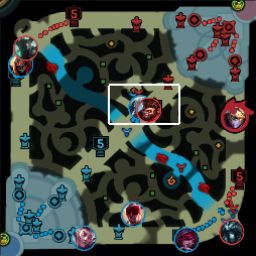ezreal: (222, 103, 246, 129)
fizz: (127, 94, 150, 118)
karthus: (219, 219, 244, 244)
leesin: (121, 201, 145, 226)
monkeyking: (135, 96, 161, 122)
mordekaiser: (13, 34, 38, 59)
rakan: (72, 224, 96, 250)
xayah: (174, 226, 200, 253)
zed: (8, 51, 33, 76)
